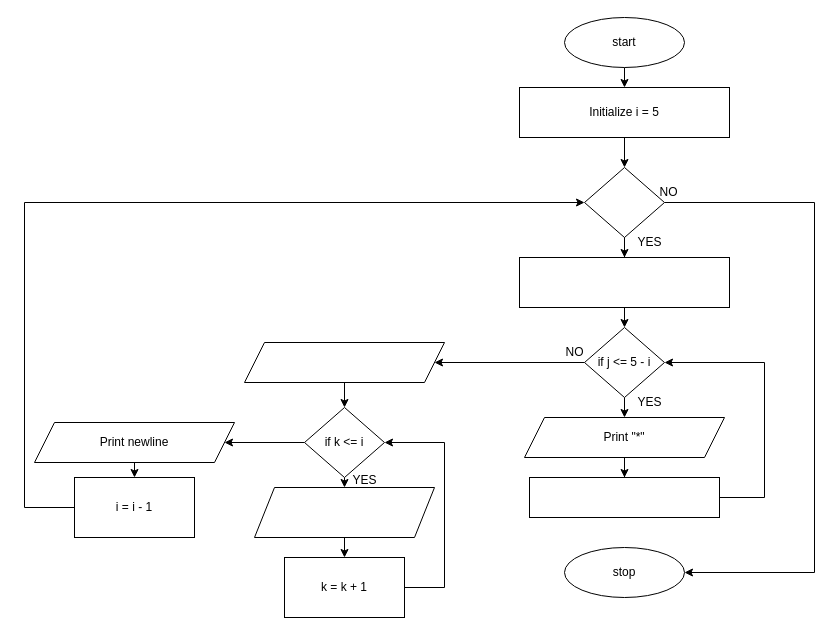
Some shapes in this 840 by 635 pixel diagram are drawn without their labels. Each missing label, with the centre of its shape:
if i <= 1: [624,202]
Initialize j = 1: [624,282]
Initialize k = 1: [344,362]
j = j + 1: [624,497]
Print "B": [344,512]
